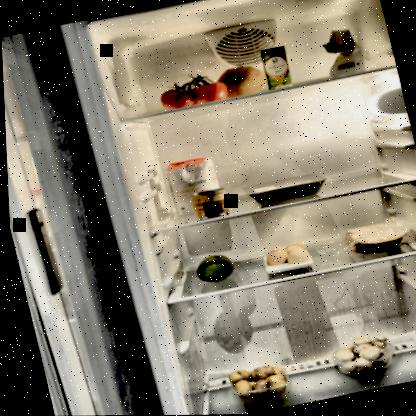apple: (189, 250, 236, 285)
corn: (187, 187, 229, 222)
eggs: (257, 239, 313, 273)
heavy_cream: (258, 45, 293, 91)
mushrooms: (323, 328, 399, 381)
potato: (222, 359, 288, 405)
sweet_potato: (214, 61, 268, 101)
tomato: (153, 68, 229, 113)
